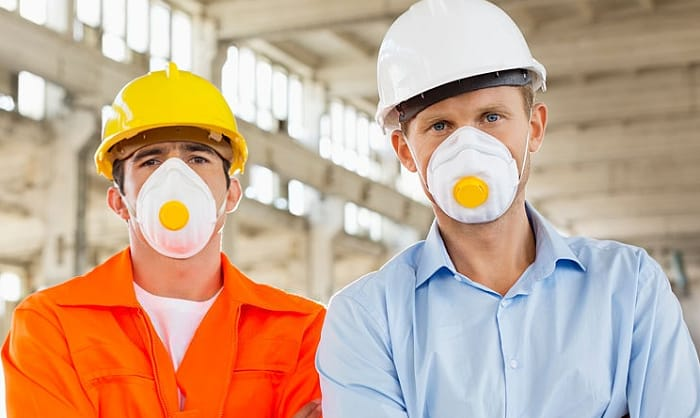n95: (416, 126, 522, 227), (131, 155, 221, 261)
